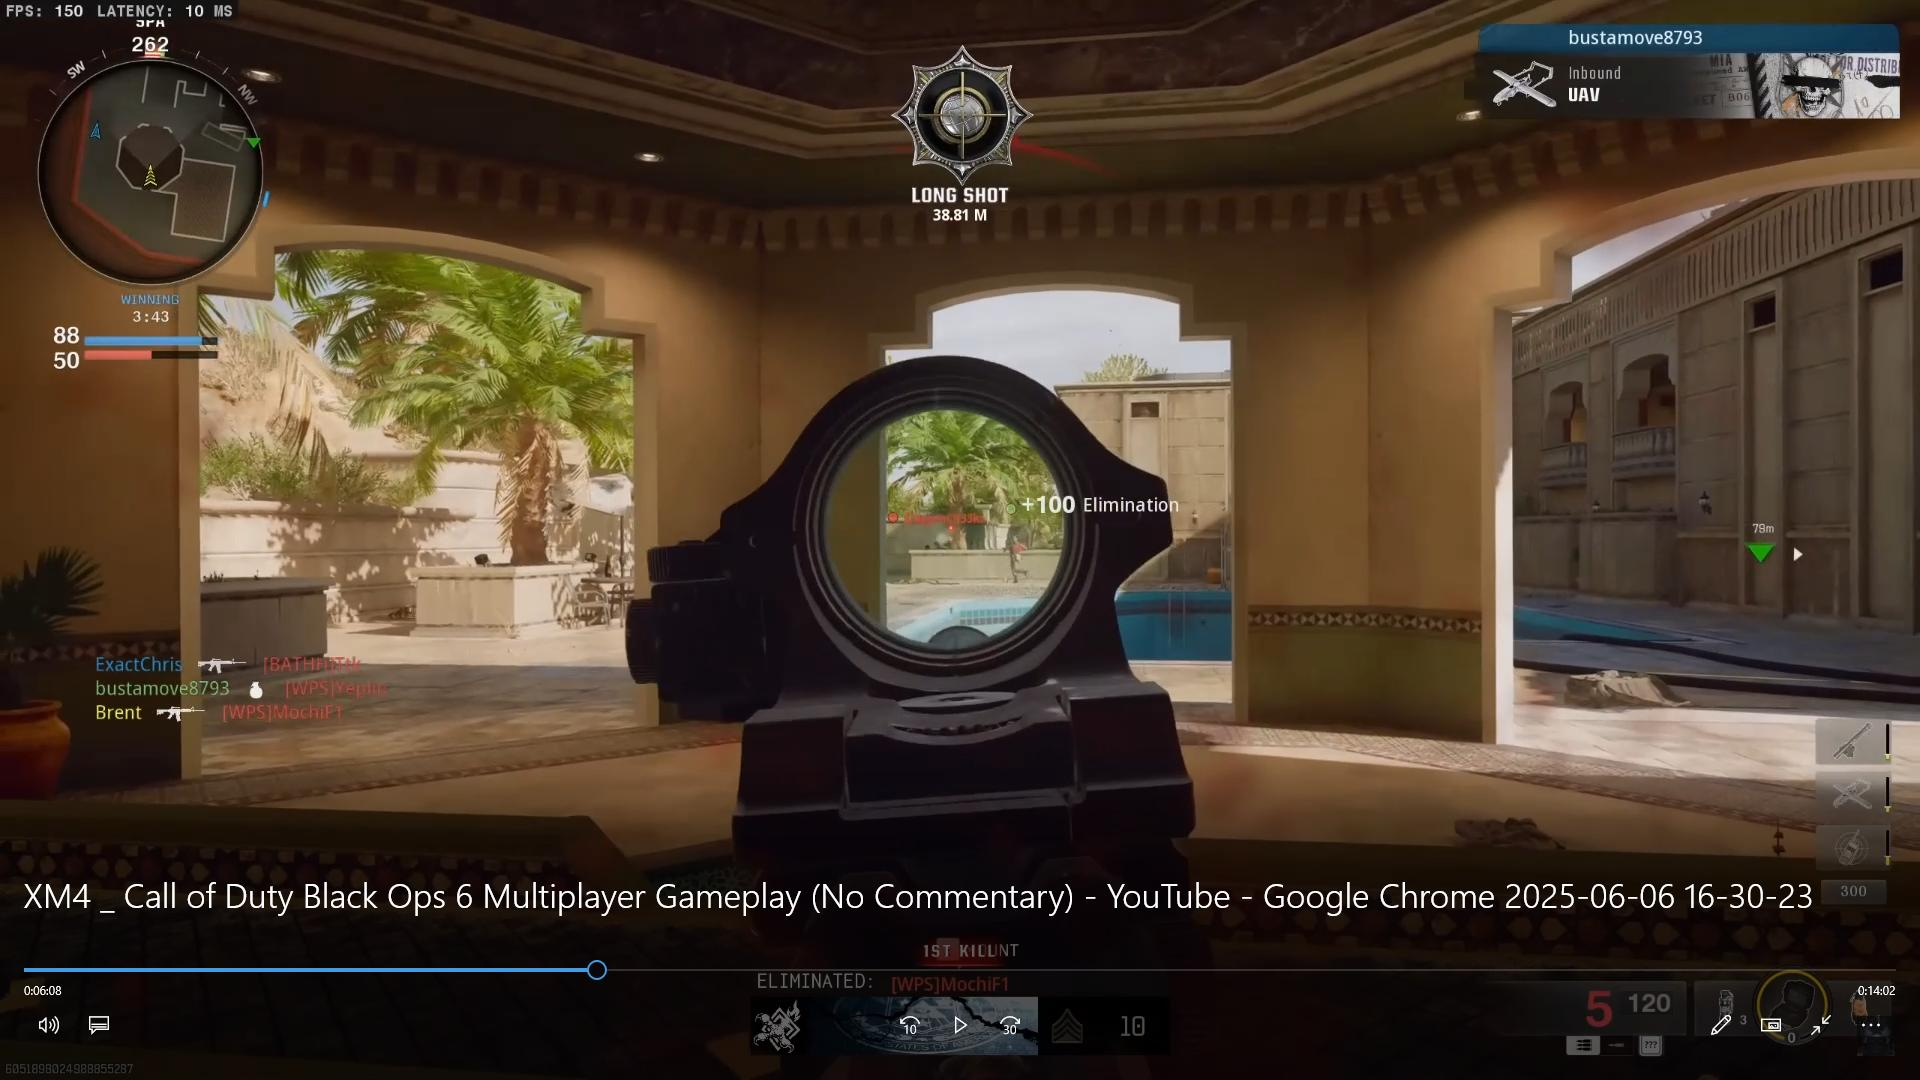Enemy: (910, 527, 948, 553)
